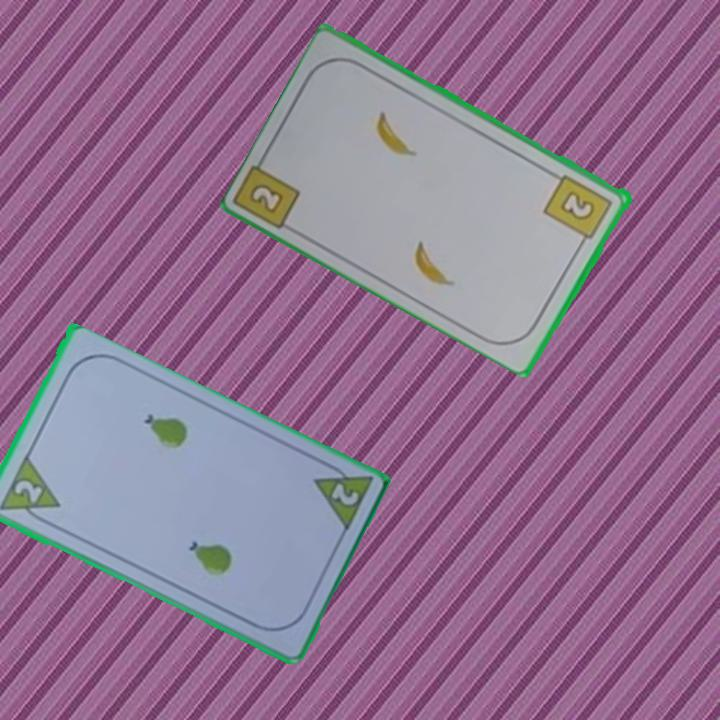2b: (541, 171, 616, 249), (246, 179, 288, 217)
2p: (308, 456, 375, 536), (10, 476, 45, 507)
